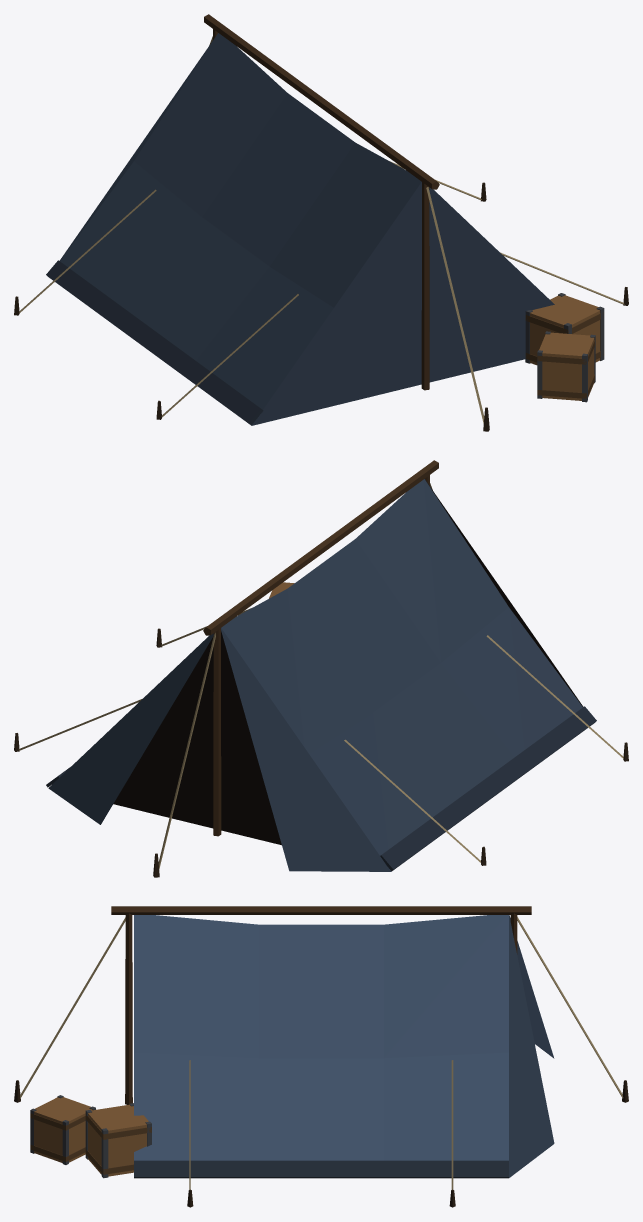
Rendered from dk_tent_b.glb.
3 views of the same model, one above another, from view 1: azimuth 30°, elevation 25°; view 2: azimuth 150°, elevation 25°; view 3: azimuth 270°, elevation 25° (orthographic). The views are drawn at different scales.
Parts seen in each view (by area): view 1: dk_tent_b; view 2: dk_tent_b; view 3: dk_tent_b.
Part boxes in pixels (bbox=[...]): dk_tent_b: bbox=[14, 14, 628, 431]; dk_tent_b: bbox=[14, 460, 628, 877]; dk_tent_b: bbox=[14, 906, 628, 1207].
Bounding box in the file's own units: 9.92 × 4.31 × 12.14.
Materials: 1 (1 with a texture image).
